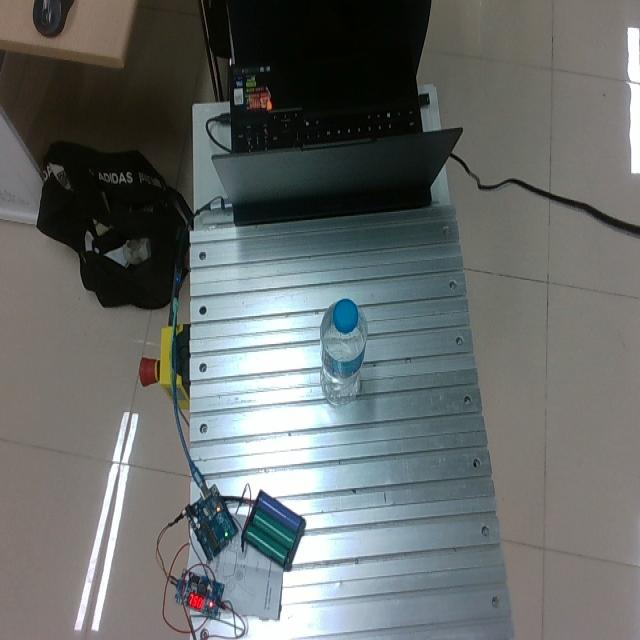lavie: (319, 299, 368, 404)
